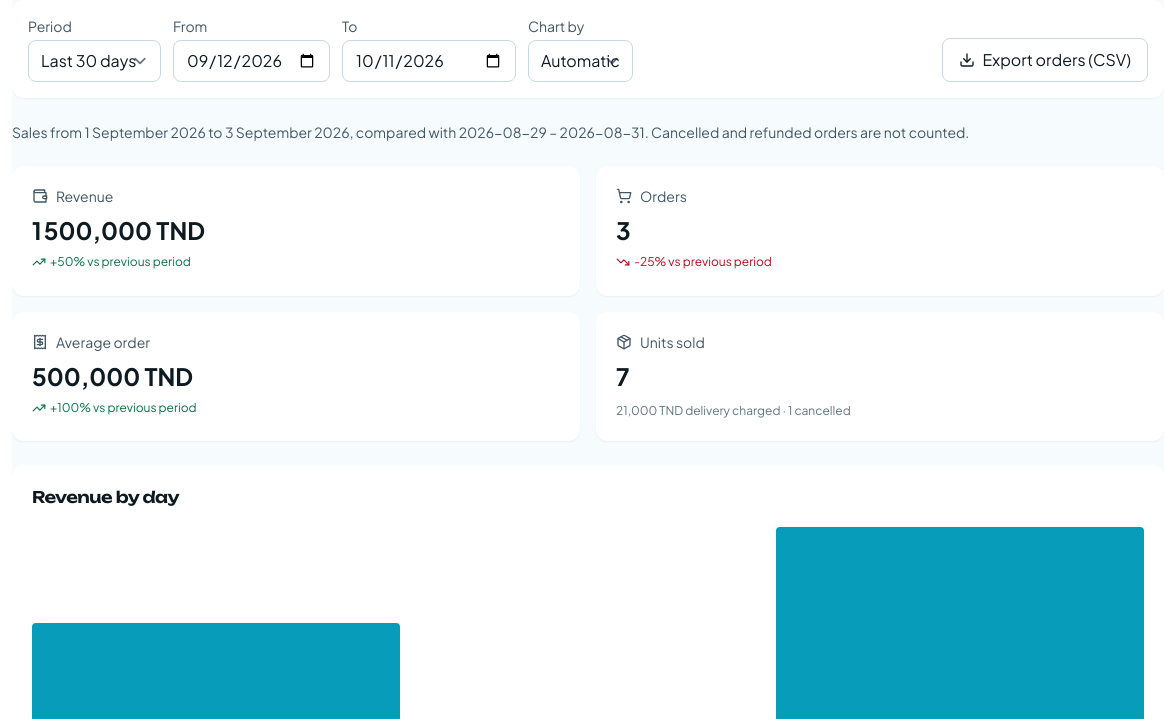
Test: admin reports page › exports the period’s orders as a CSV file
The width and height of the screenshot is (1164, 720).
Click the button "Export orders (CSV)" at {"x": 1045, "y": 60}, box [942,38,1148,82]
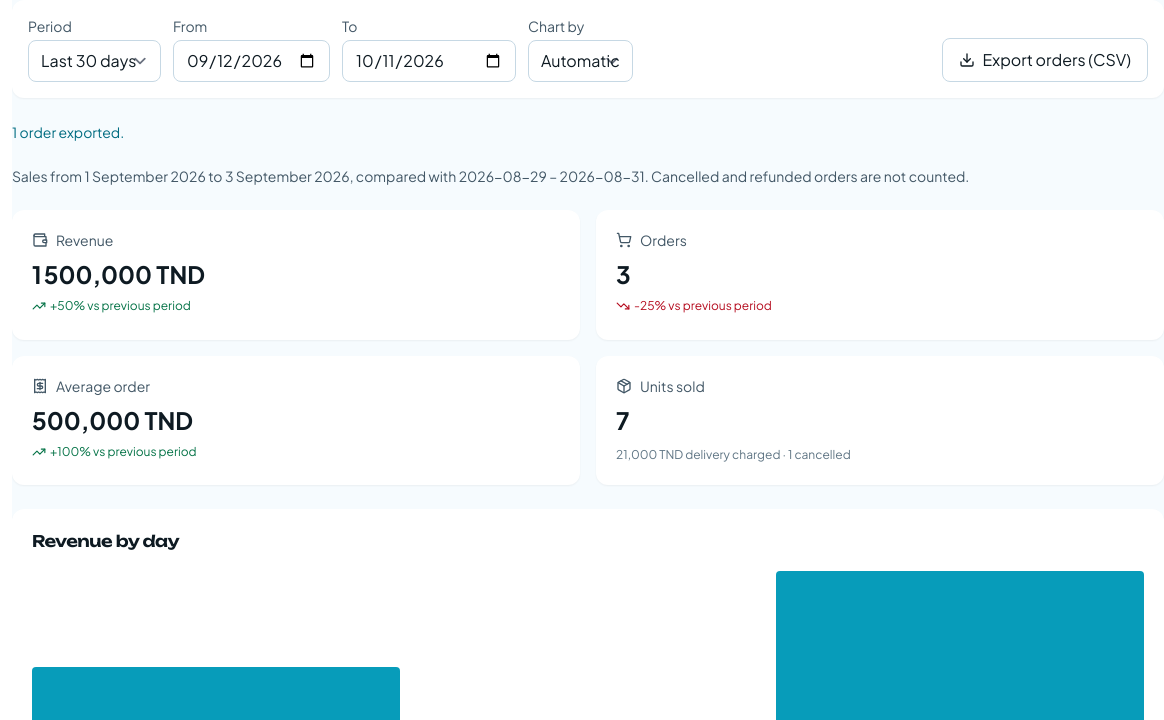
Now the text "1 order exported." is shown, box [12,123,124,141]
